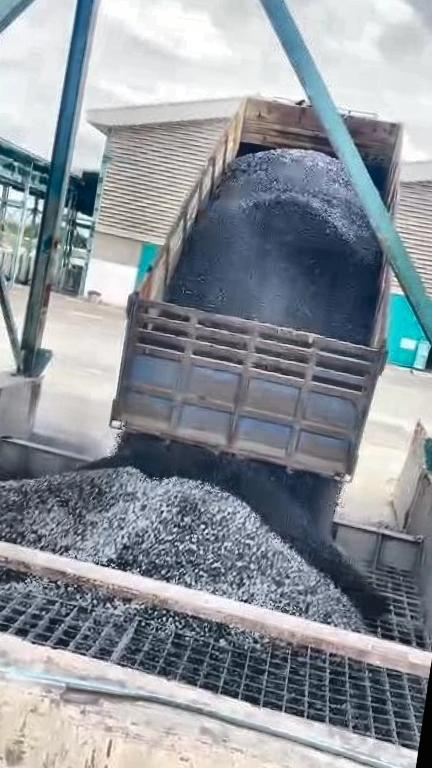gravel: (0, 435, 382, 630), (166, 150, 381, 344), (149, 611, 210, 636)
